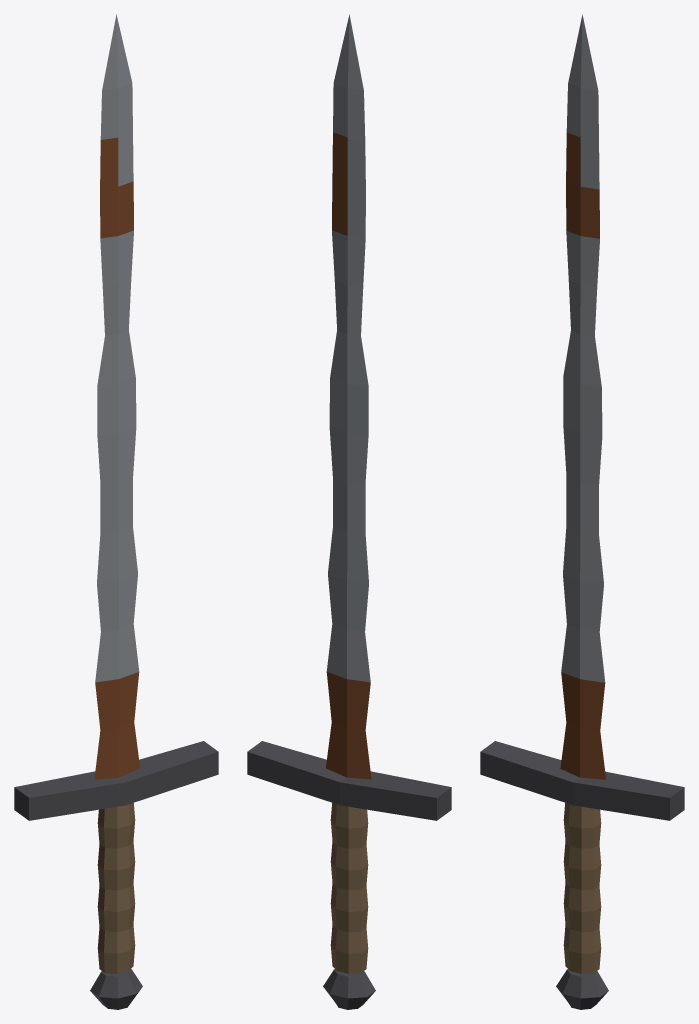
File: StarterSword.fbx
The picture shows the model from 3 angles, left to right: view 1: azimuth 30°, elevation 25°; view 2: azimuth 150°, elevation 25°; view 3: azimuth 330°, elevation 25°; orthographic projection.
Parts seen in each view (by area): view 1: StarterSword; view 2: StarterSword; view 3: StarterSword.
Boxes of the visible parts, x1=… form: StarterSword: x1=14, y1=14, x2=218, y2=1009; StarterSword: x1=247, y1=14, x2=451, y2=1009; StarterSword: x1=480, y1=14, x2=684, y2=1009.
Bounding box in the file's own units: 0.19 × 0.949 × 0.037.
